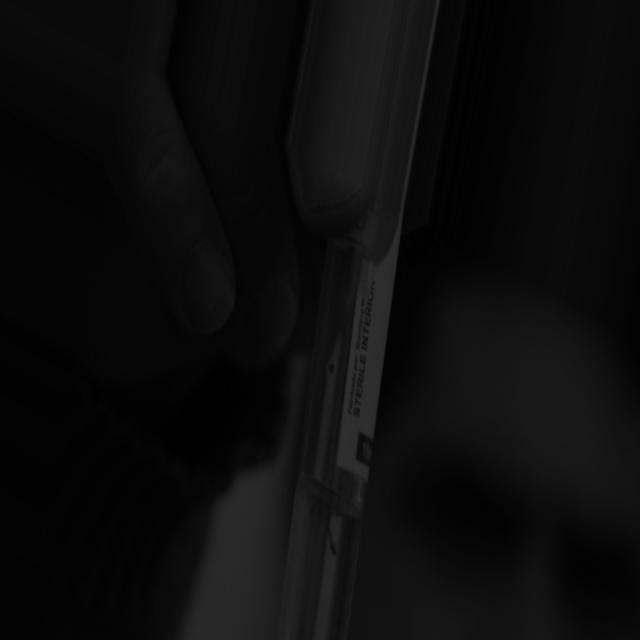larvas: (327, 512, 336, 556)
